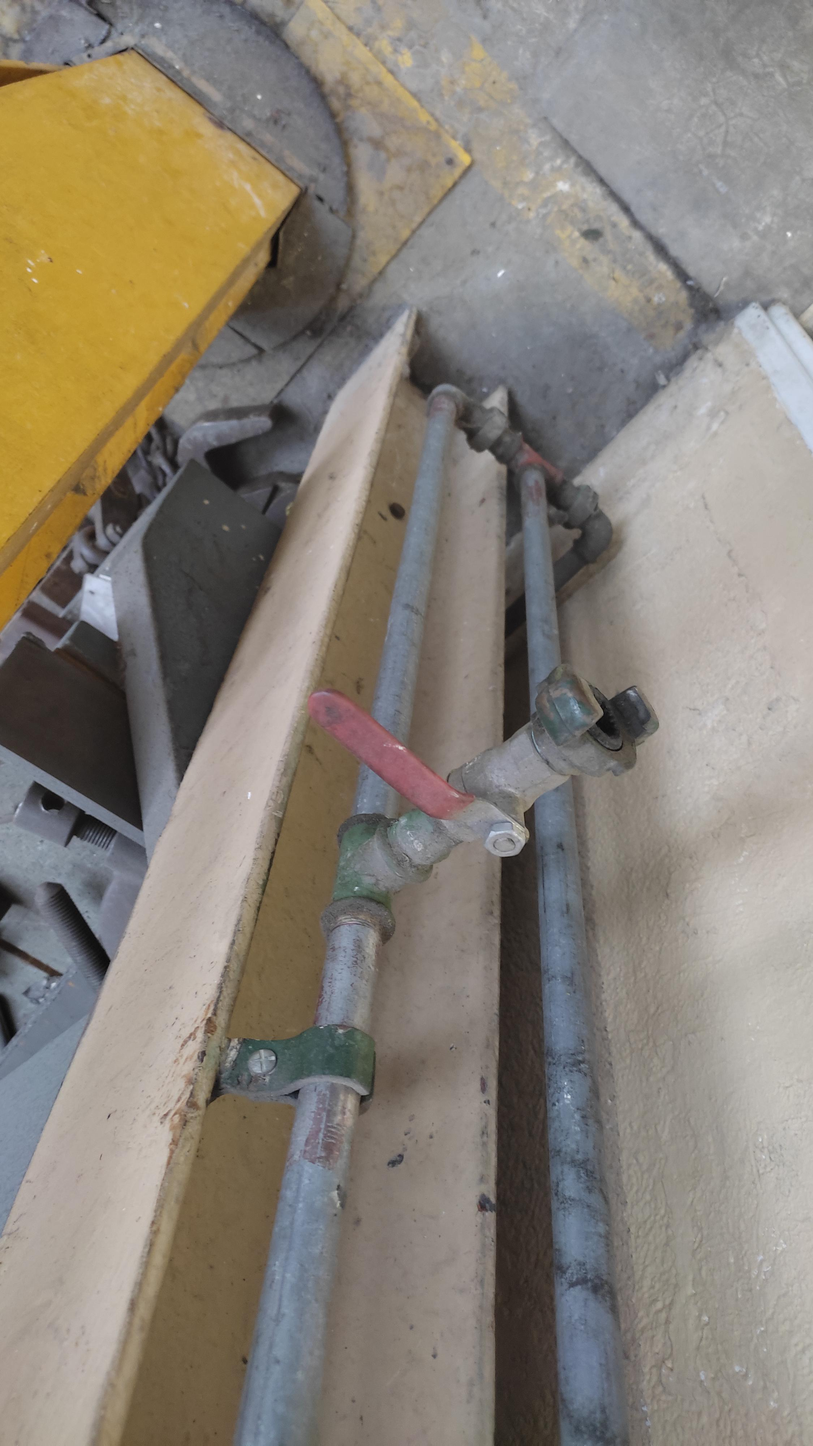closed valve: (285, 678, 574, 878)
